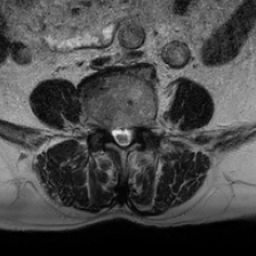CCS_stenosis: (119, 120, 126, 154)
LFS_severe_stenosis: (134, 118, 143, 140)
LLS_normal: (126, 120, 135, 149)
RFS_severe_stenosis: (101, 116, 110, 140)
RLS_normal: (110, 120, 119, 146)
